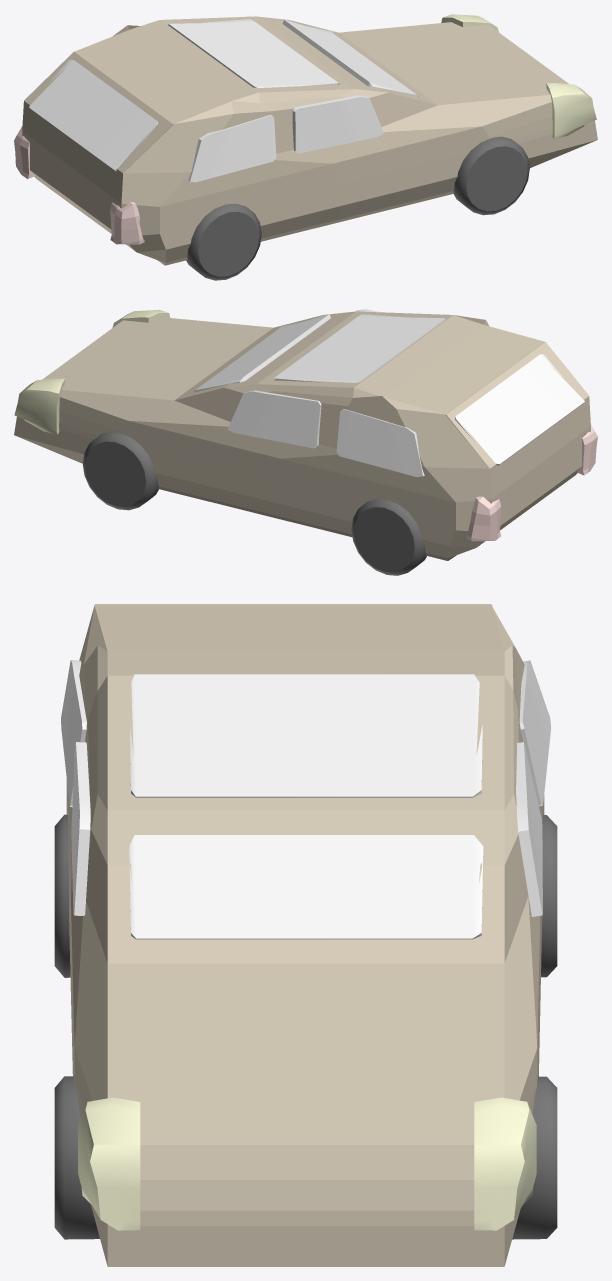
Rendered from CarroVeige.fbx.
The picture shows the model from 3 angles, top to bottom: view 1: azimuth 30°, elevation 25°; view 2: azimuth 150°, elevation 25°; view 3: azimuth 270°, elevation 25°; orthographic projection. The views are drawn at different scales.
Parts seen in each view (by area): view 1: pCube1, pCube10, pCube15, pCylinder1, pCylinder2, pCube8, pCube13, pCube6, pCube9, pCube11; view 2: pCube1, pCube10, pCube15, pCylinder3, pCylinder4, pCube12, pCube14, pCube6, pCube9, pCube11; view 3: pCube1, pCube15, pCube6, pCube9, pCylinder1, pCylinder3, pCube12, pCube14, pCube8, pCylinder4, pCylinder2, pCube13.
Boxes of the visible parts, <box> form: pCube1: <box>22,16,597,265</box>; pCube10: <box>29,59,157,170</box>; pCube15: <box>168,19,339,87</box>; pCylinder1: <box>454,136,529,215</box>; pCylinder2: <box>186,203,261,280</box>; pCube8: <box>292,95,383,153</box>; pCube13: <box>188,114,276,182</box>; pCube6: <box>282,20,418,97</box>; pCube9: <box>441,14,596,139</box>; pCube11: <box>14,126,144,244</box>; pCube1: <box>14,311,590,560</box>; pCube10: <box>455,354,584,465</box>; pCube15: <box>274,314,445,382</box>; pCylinder3: <box>82,432,158,510</box>; pCylinder4: <box>351,499,426,575</box>; pCube12: <box>228,390,321,448</box>; pCube14: <box>336,409,424,476</box>; pCube6: <box>193,314,330,392</box>; pCube9: <box>14,309,170,434</box>; pCube11: <box>467,425,597,541</box>; pCube1: <box>66,604,544,1266</box>; pCube15: <box>130,674,482,797</box>; pCube6: <box>129,835,483,939</box>; pCube9: <box>78,1097,536,1230</box>; pCylinder1: <box>54,1076,99,1239</box>; pCylinder3: <box>512,1076,557,1239</box>; pCube12: <box>516,742,542,916</box>; pCube14: <box>519,660,551,806</box>; pCube8: <box>71,742,90,915</box>; pCylinder4: <box>541,815,557,977</box>; pCylinder2: <box>54,814,70,977</box>; pCube13: <box>61,660,86,807</box>.
Bounding box in the file's own units: 24.46 × 8.28 × 11.09.
